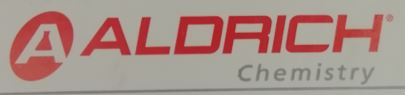SigmaAldrich: (7, 8, 397, 85)
